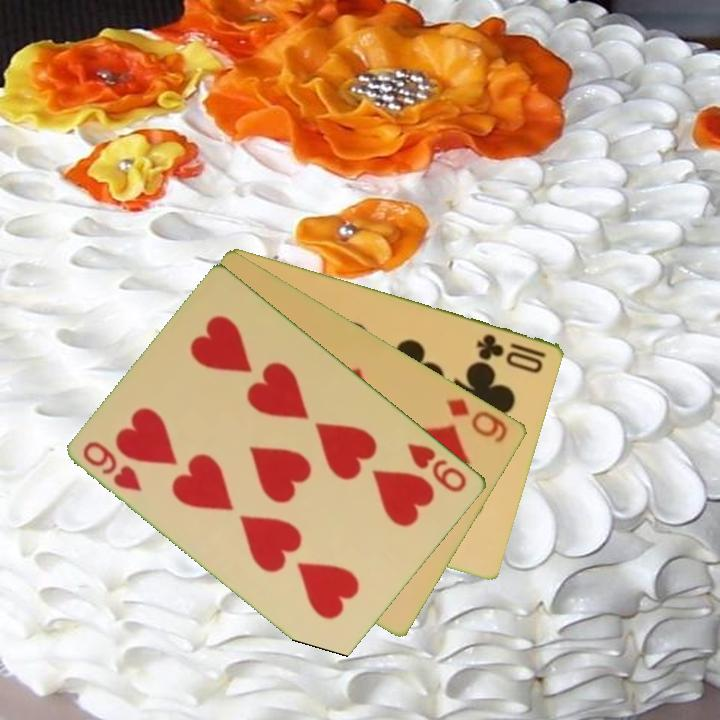10c: (473, 330, 549, 376)
6d: (443, 394, 511, 446)
9h: (79, 437, 145, 495), (404, 439, 470, 496)
